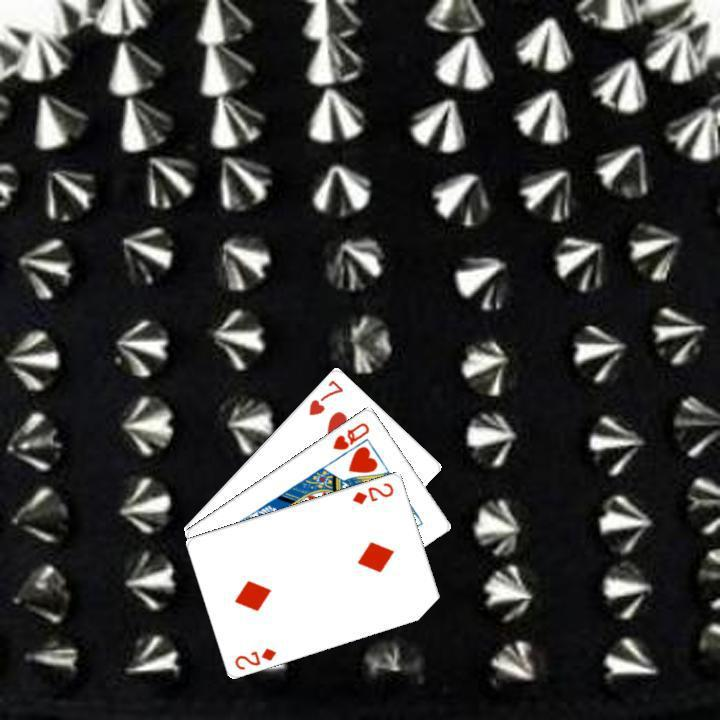2: (230, 643, 278, 672), (348, 478, 396, 506)
7: (304, 375, 345, 417)
Q: (328, 417, 372, 452)
